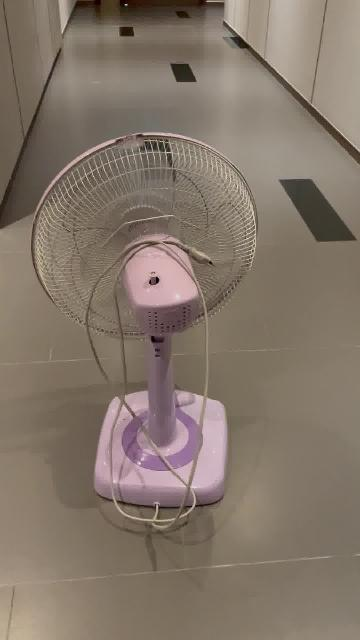Fan: (31, 133, 258, 513)
